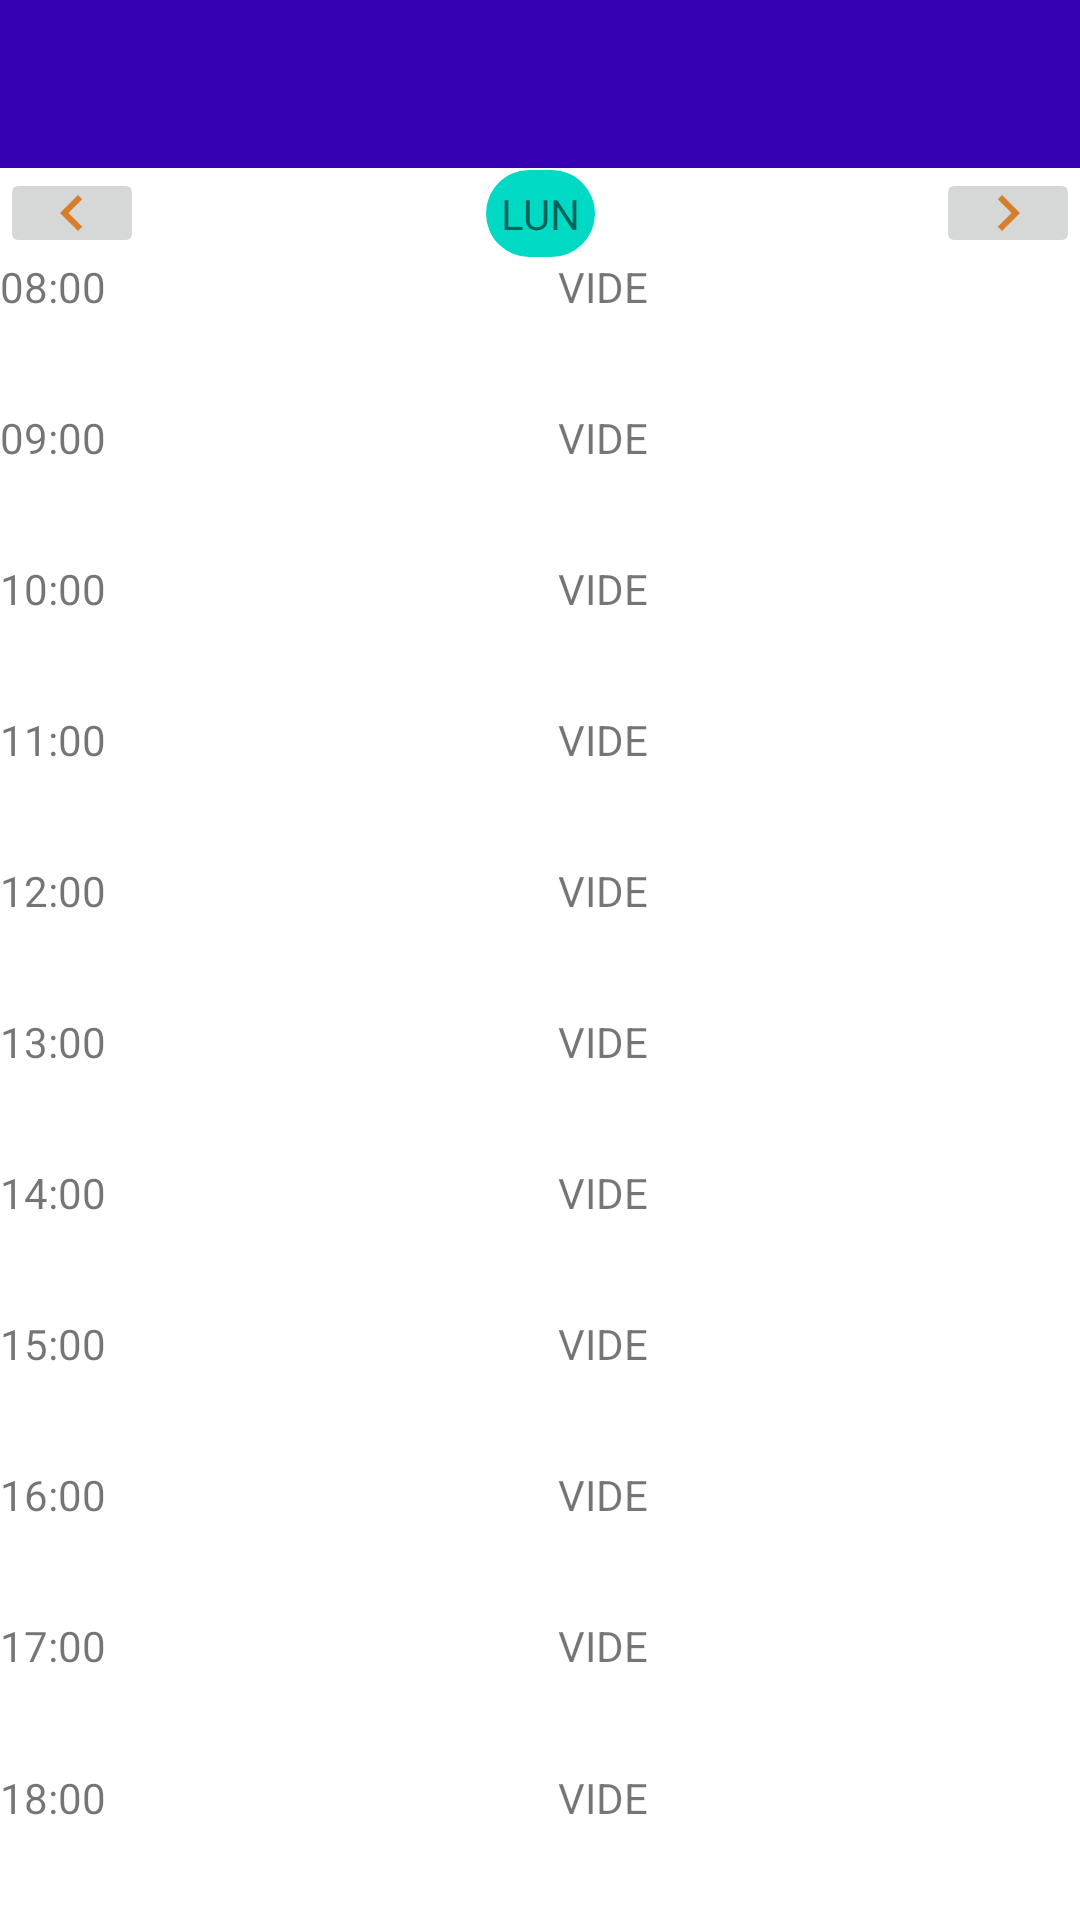

Screen size 1080px×1920px. Icon name, then its center in pixels as [x,y]:
navigate next: [1008,213]
previous: [72,213]
